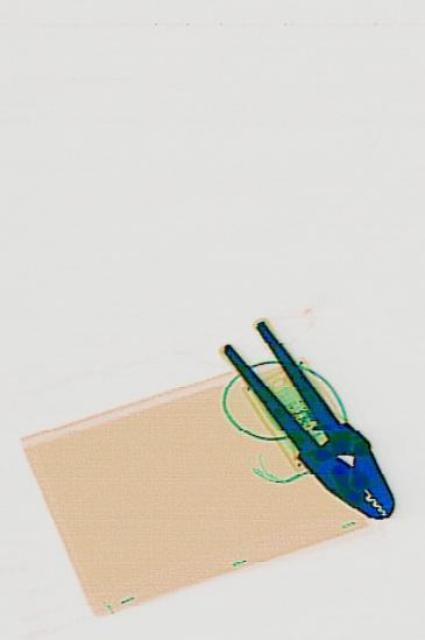Pliers: (217, 292, 405, 546)
